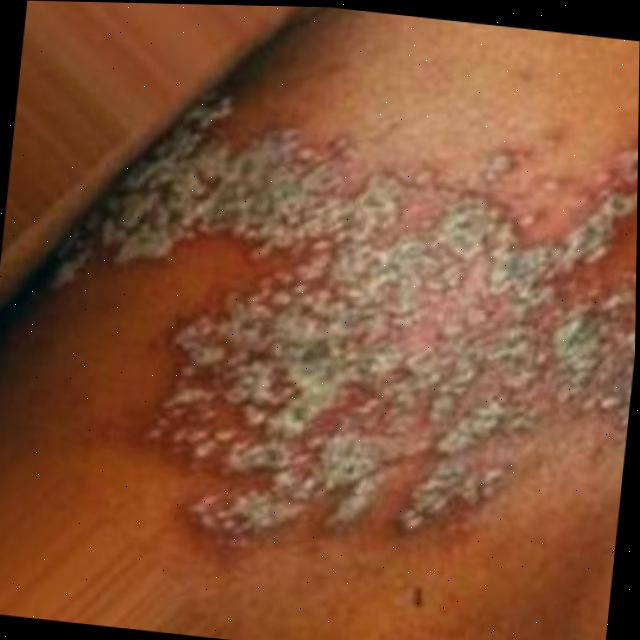Shingles: (27, 59, 639, 588)
